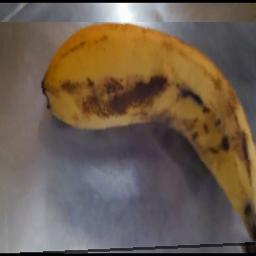Banana Semirotten: (0, 22, 256, 256)
